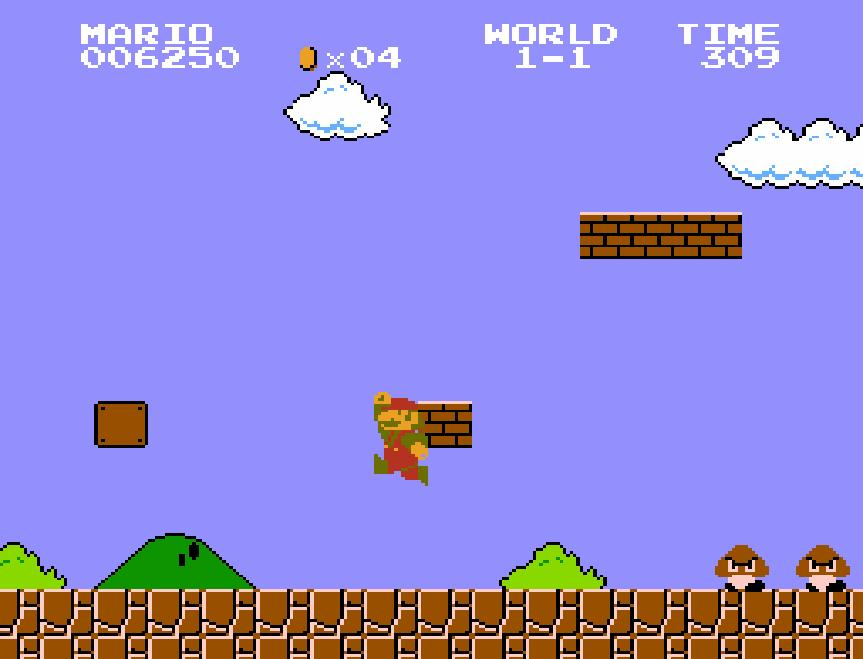big_mario: (372, 390, 430, 488)
